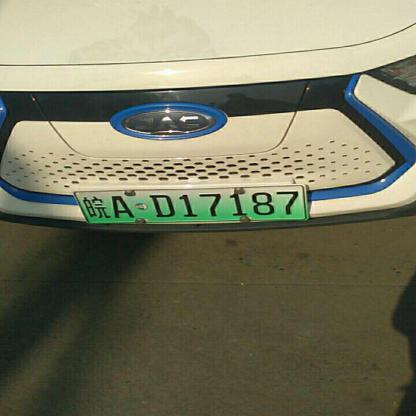lp: (75, 185, 306, 223)
